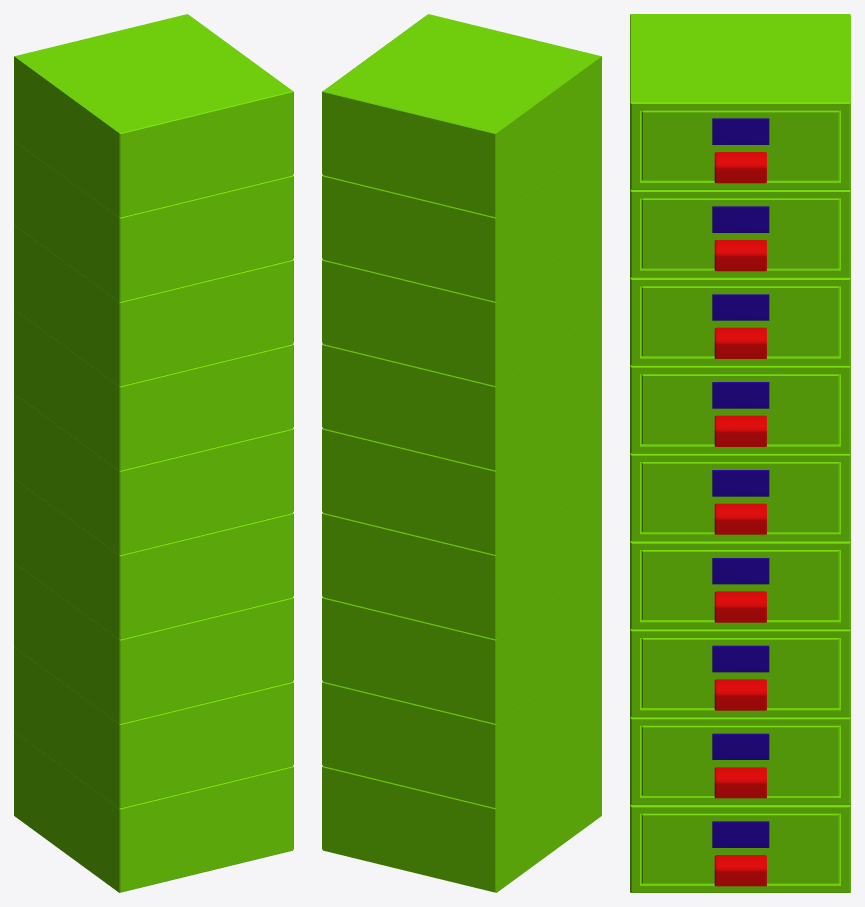
The model's file is armariodocumentos_1fileira.fbx.
3 renders of one model, left to right at view 1: azimuth 30°, elevation 25°; view 2: azimuth 150°, elevation 25°; view 3: azimuth 270°, elevation 25°, orthographic. The views are drawn at different scales.
Visible parts, largest first — view 1: polySurface217; view 2: polySurface217; view 3: polySurface217, polySurface231, polySurface215, polySurface233, polySurface219, polySurface221, polySurface223, polySurface225, polySurface227, polySurface229.
Part boxes in pixels (x1=…): polySurface217: x1=14, y1=14, x2=293, y2=892; polySurface217: x1=322, y1=14, x2=601, y2=892; polySurface217: x1=630, y1=14, x2=850, y2=892; polySurface231: x1=641, y1=725, x2=839, y2=798; polySurface215: x1=641, y1=110, x2=839, y2=183; polySurface233: x1=641, y1=813, x2=839, y2=886; polySurface219: x1=641, y1=198, x2=839, y2=271; polySurface221: x1=641, y1=286, x2=839, y2=358; polySurface223: x1=641, y1=374, x2=839, y2=446; polySurface225: x1=641, y1=462, x2=839, y2=534; polySurface227: x1=641, y1=550, x2=839, y2=622; polySurface229: x1=641, y1=638, x2=839, y2=710.
Size of the model in its own units: 73.18 by 280 by 70.84.
